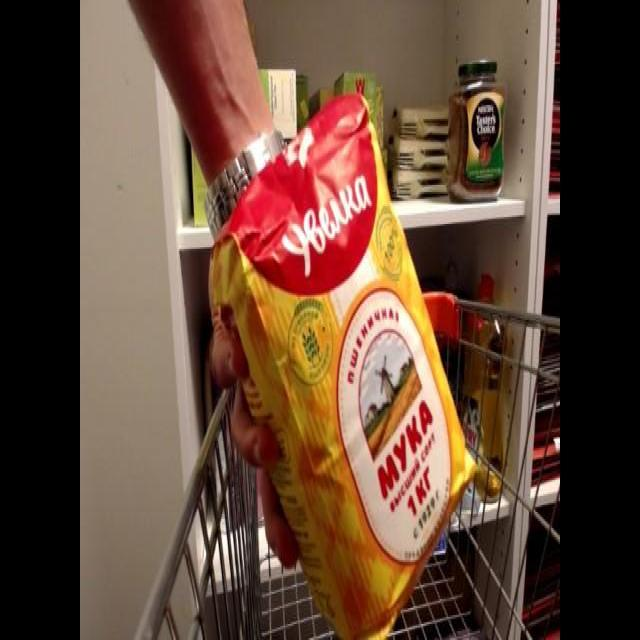Flour: (208, 73, 491, 624)
